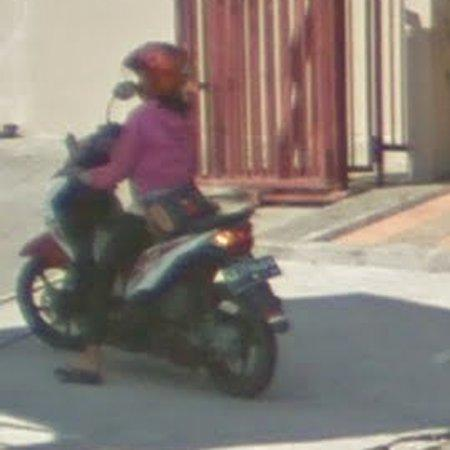motorcycles: (105, 209, 289, 396), (17, 125, 121, 349)
